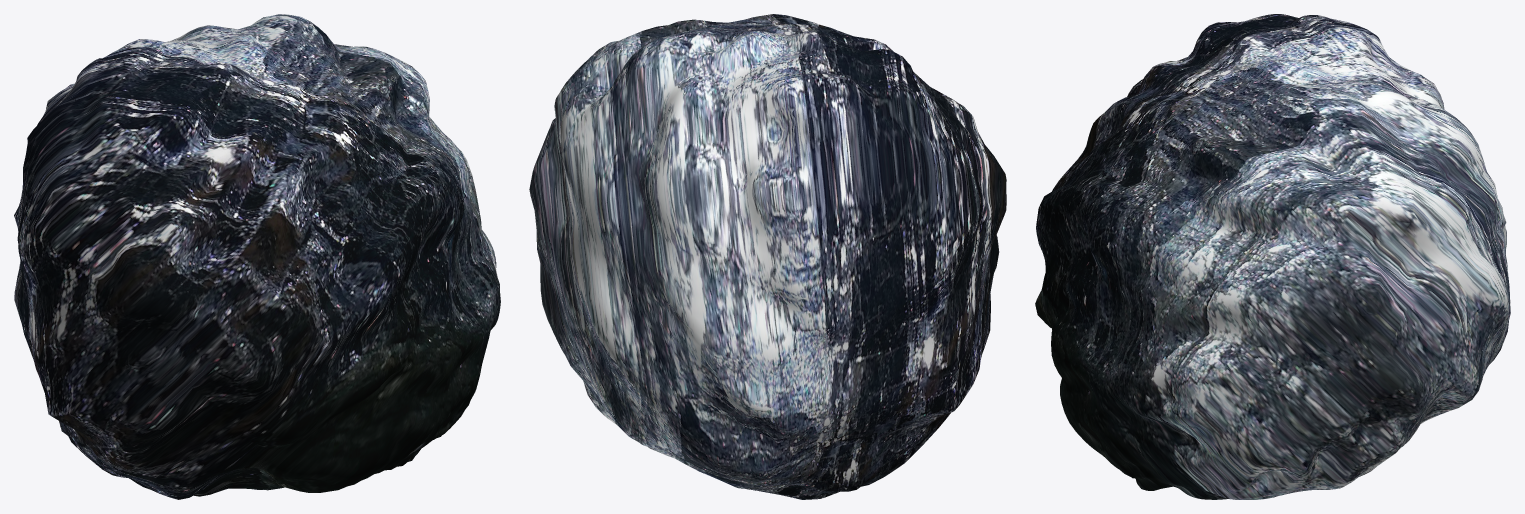
Rendered from LeadFBX.fbx.
The picture shows the model from 3 angles, left to right: view 1: azimuth 30°, elevation 25°; view 2: azimuth 150°, elevation 25°; view 3: azimuth 270°, elevation 25°; orthographic projection. The views are drawn at different scales.
Parts seen in each view (by area): view 1: pSphere2; view 2: pSphere2; view 3: pSphere2.
Part boxes in pixels (x1,y1,x2,y2): pSphere2: (14,14,500,499); pSphere2: (529,14,1006,499); pSphere2: (1035,14,1510,499).
Size of the model in its own units: 9.59 by 9.43 by 9.64.
